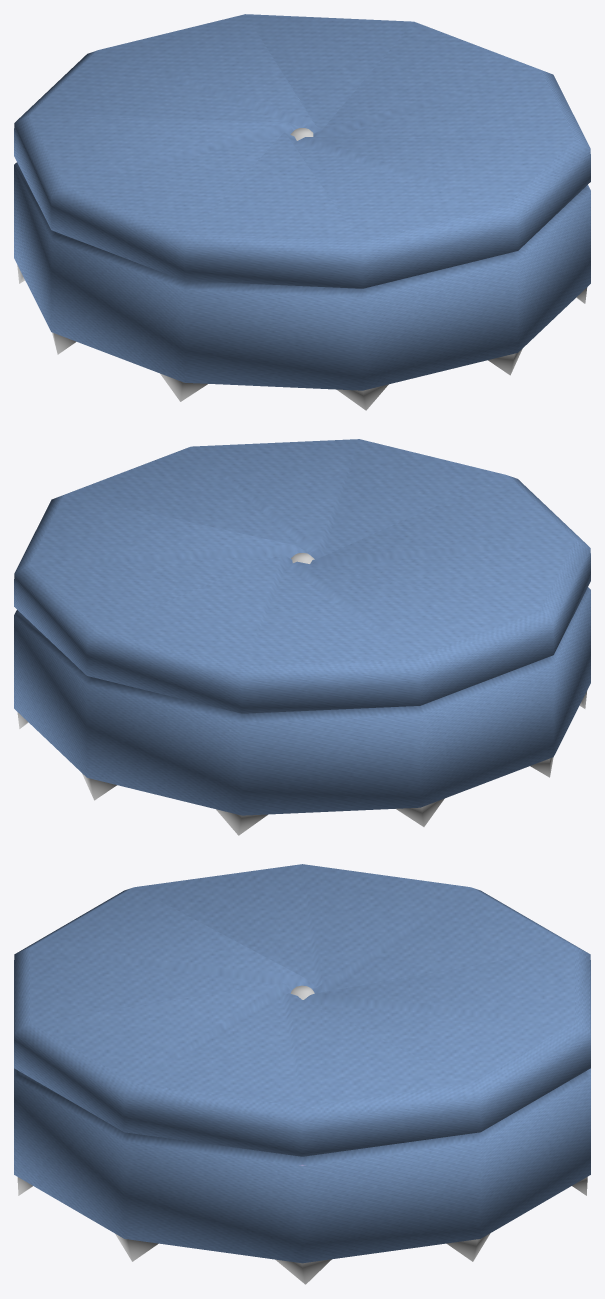
Rendered from Ottoman_B_15.FBX.
3 renders of one model, top to bottom at view 1: azimuth 30°, elevation 25°; view 2: azimuth 150°, elevation 25°; view 3: azimuth 270°, elevation 25°, orthographic. The views are drawn at different scales.
Visible parts, largest first — view 1: Ottoman_02; view 2: Ottoman_02; view 3: Ottoman_02.
Boxes of the visible parts, left/top/right/bottom form: Ottoman_02: left=14, top=14, right=590, bottom=410; Ottoman_02: left=14, top=439, right=590, bottom=835; Ottoman_02: left=14, top=864, right=590, bottom=1284.
Size of the model in its own units: 232 by 73.27 by 220.
